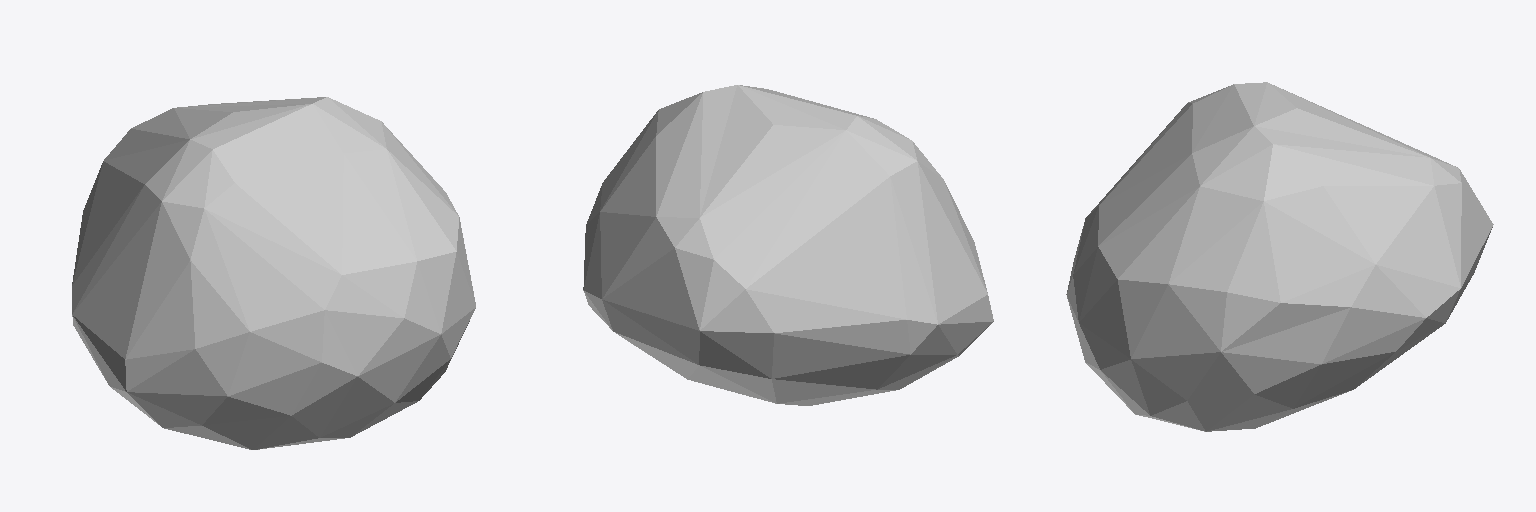
Rendered from smallRock03.obj.
3 views of the same model, side by side, from view 1: azimuth 30°, elevation 25°; view 2: azimuth 150°, elevation 25°; view 3: azimuth 270°, elevation 25° (orthographic).
Parts seen in each view (by area): view 1: smallRock03_Cube.189; view 2: smallRock03_Cube.189; view 3: smallRock03_Cube.189.
Boxes of the visible parts, box(x1,y1,x2,y2) form: smallRock03_Cube.189: box(72, 97, 475, 449); smallRock03_Cube.189: box(583, 85, 993, 405); smallRock03_Cube.189: box(1066, 82, 1493, 431).
Size of the model in its own units: 0.7434 by 0.6041 by 0.7738.